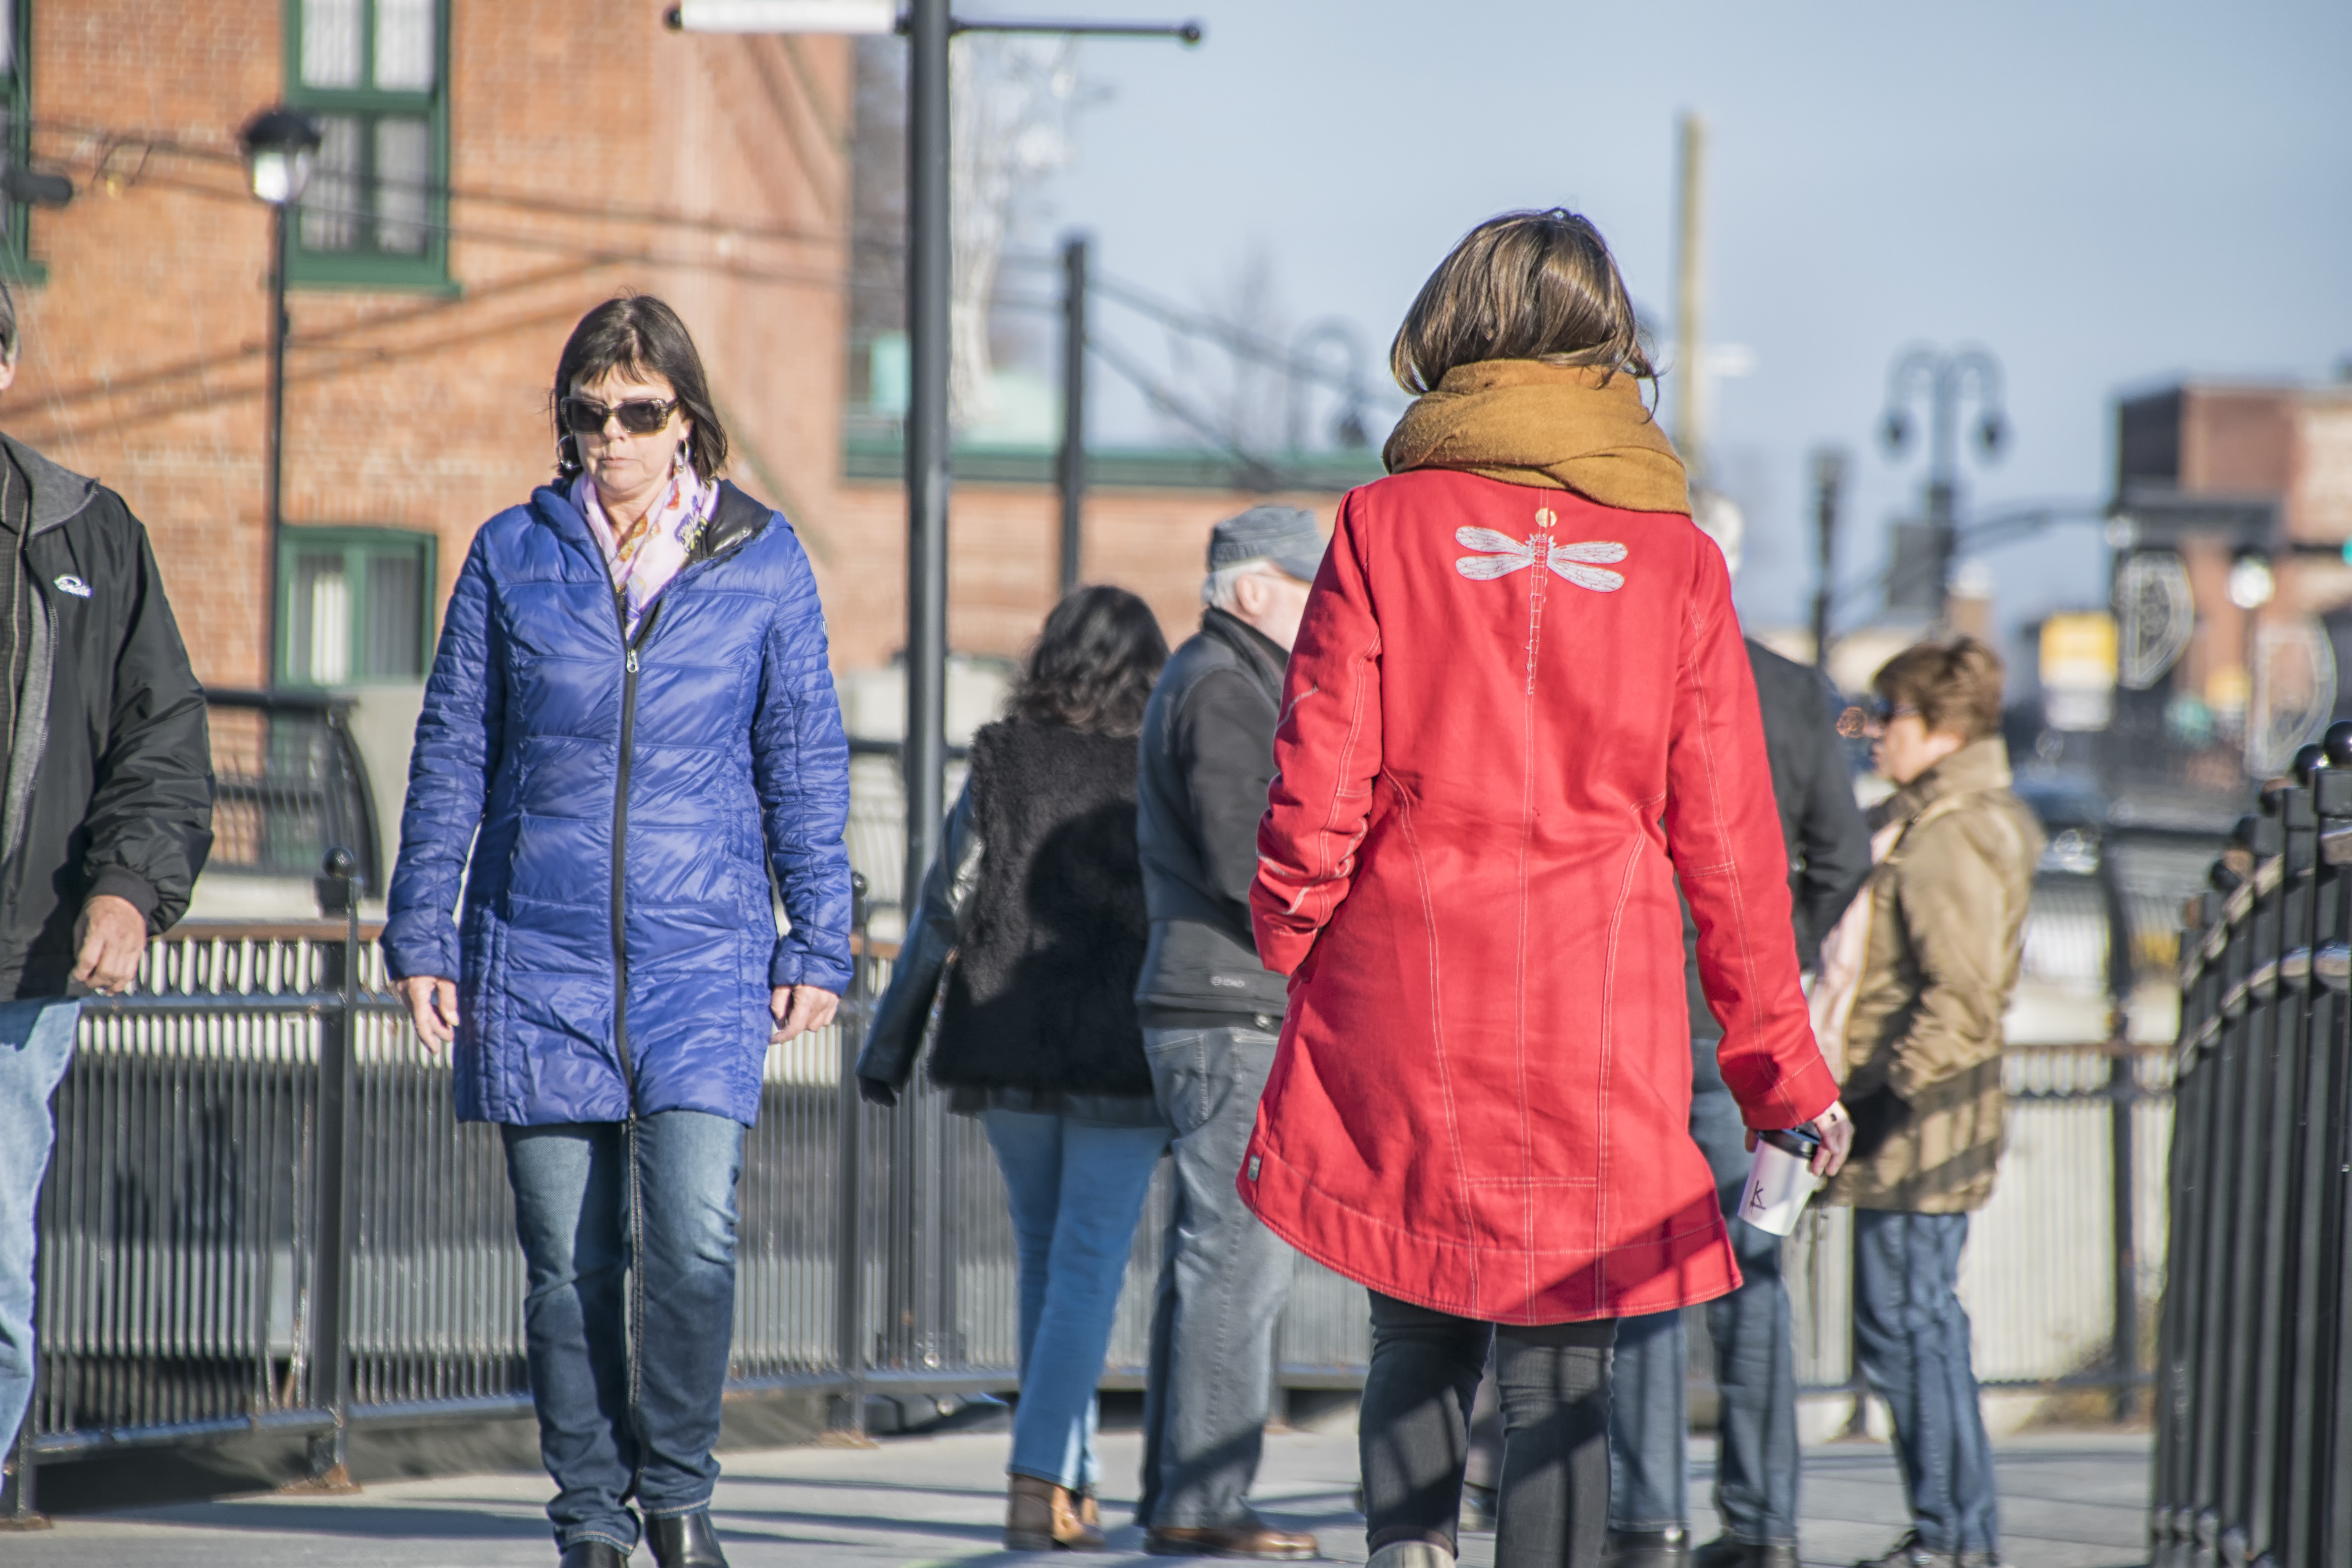without_mask: (543, 369, 705, 498), (1855, 681, 1938, 790)
